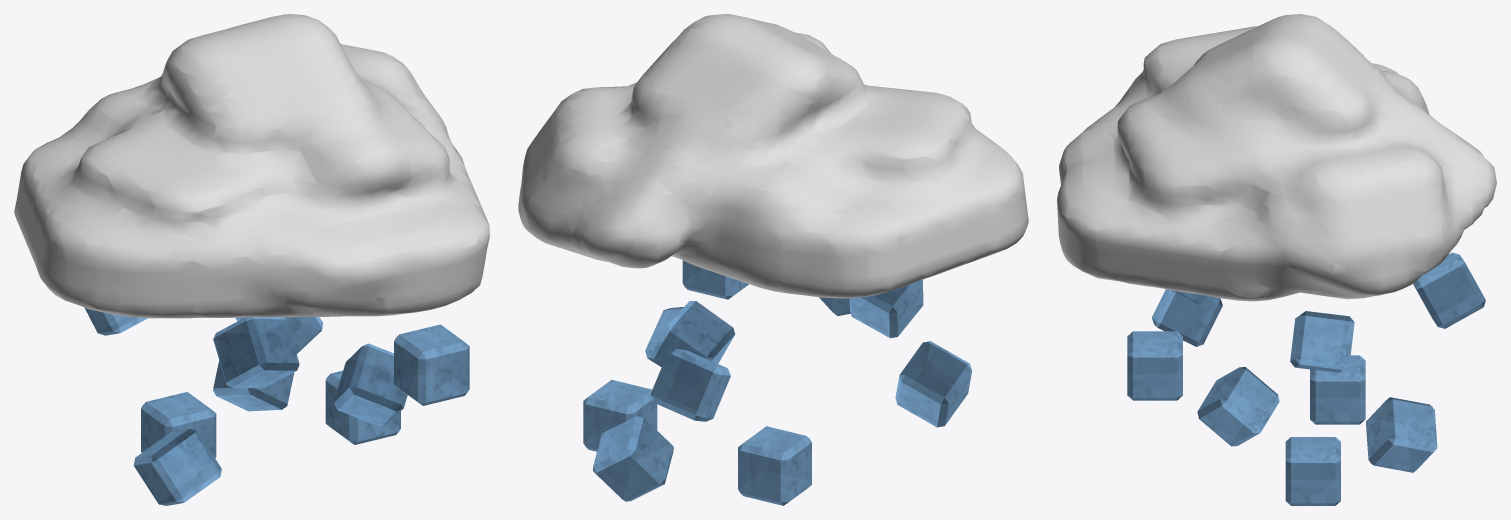
3 renders of one model, left to right at view 1: azimuth 30°, elevation 25°; view 2: azimuth 150°, elevation 25°; view 3: azimuth 270°, elevation 25°, orthographic. The views are drawn at different scales.
Visible parts, largest first — view 1: 雹灾; view 2: 雹灾; view 3: 雹灾.
Part boxes in pixels (left/top/right/bottom): 雹灾: left=14, top=14, right=489, bottom=505; 雹灾: left=518, top=14, right=1028, bottom=505; 雹灾: left=1057, top=14, right=1496, bottom=505.
Bounding box in the file's own units: 189 × 183 × 175.
